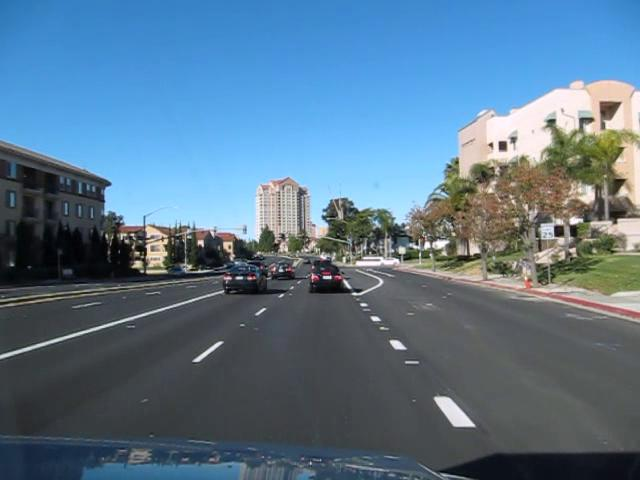speedLimit25: (539, 222, 555, 240)
